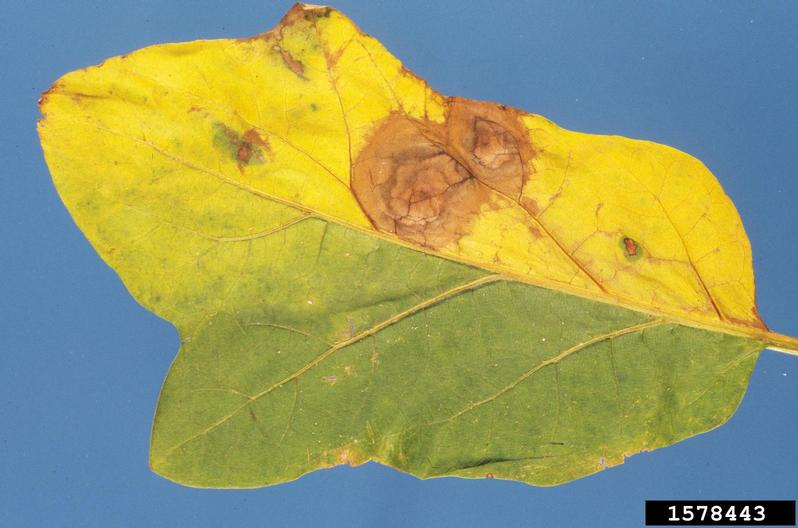Eggplant_PhytophthoraBlight: (48, 10, 767, 480)
